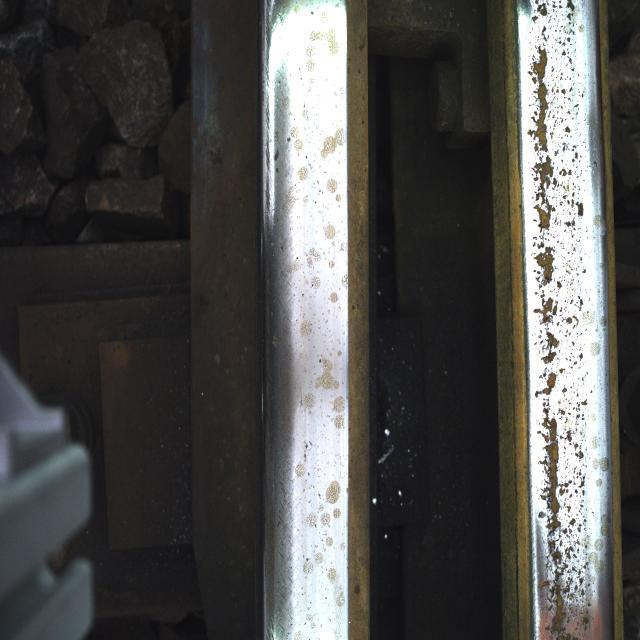scar: (524, 27, 598, 618), (275, 48, 346, 578)
